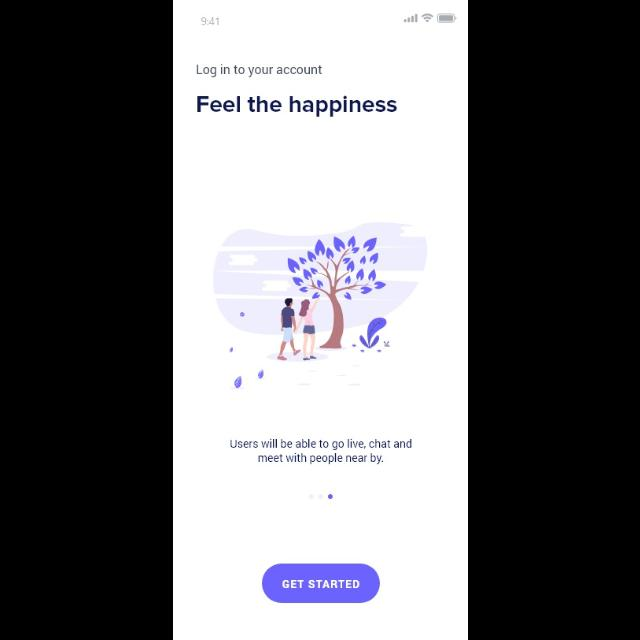image: (212, 222, 426, 388)
pageindicator: (308, 494, 334, 501)
text: (229, 438, 411, 466), (197, 96, 397, 118), (196, 64, 322, 78)
textbutton: (262, 564, 381, 602)
uppertaskbar: (200, 14, 456, 26)
